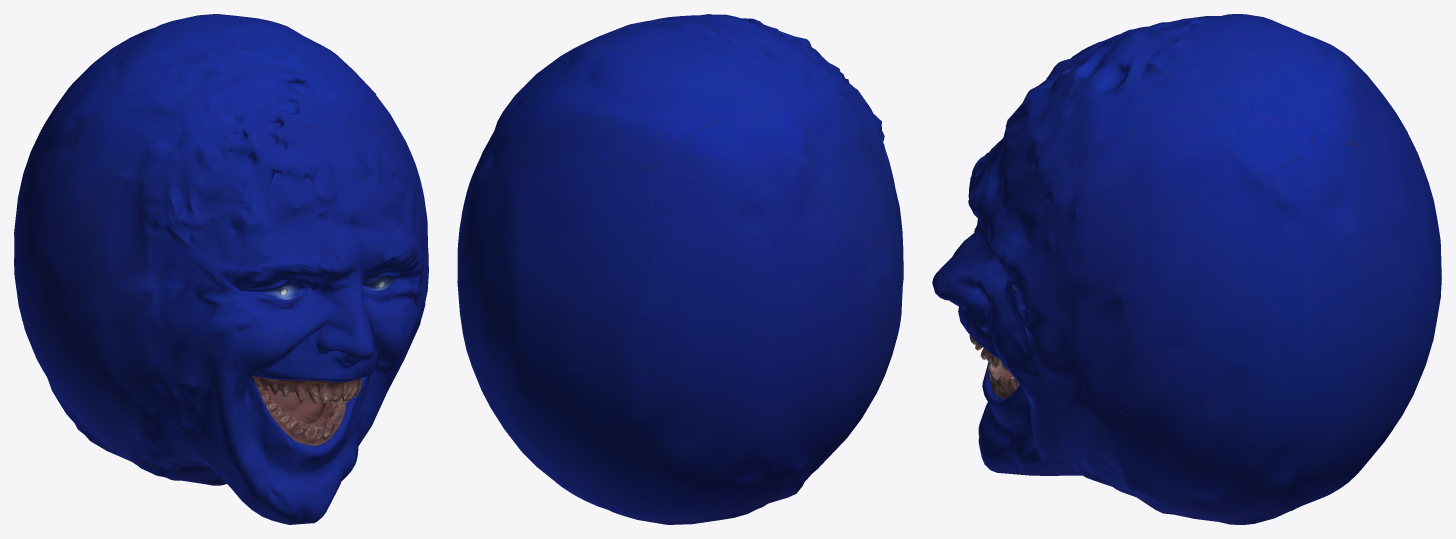
File: moon-laugh.glb
3 views of the same model, side by side, from view 1: azimuth 30°, elevation 25°; view 2: azimuth 150°, elevation 25°; view 3: azimuth 270°, elevation 25° (orthographic). The views are drawn at different scales.
Size of the model in its own units: 1.66 by 1.9 by 1.87.
Materials: 1 (1 with a texture image).
